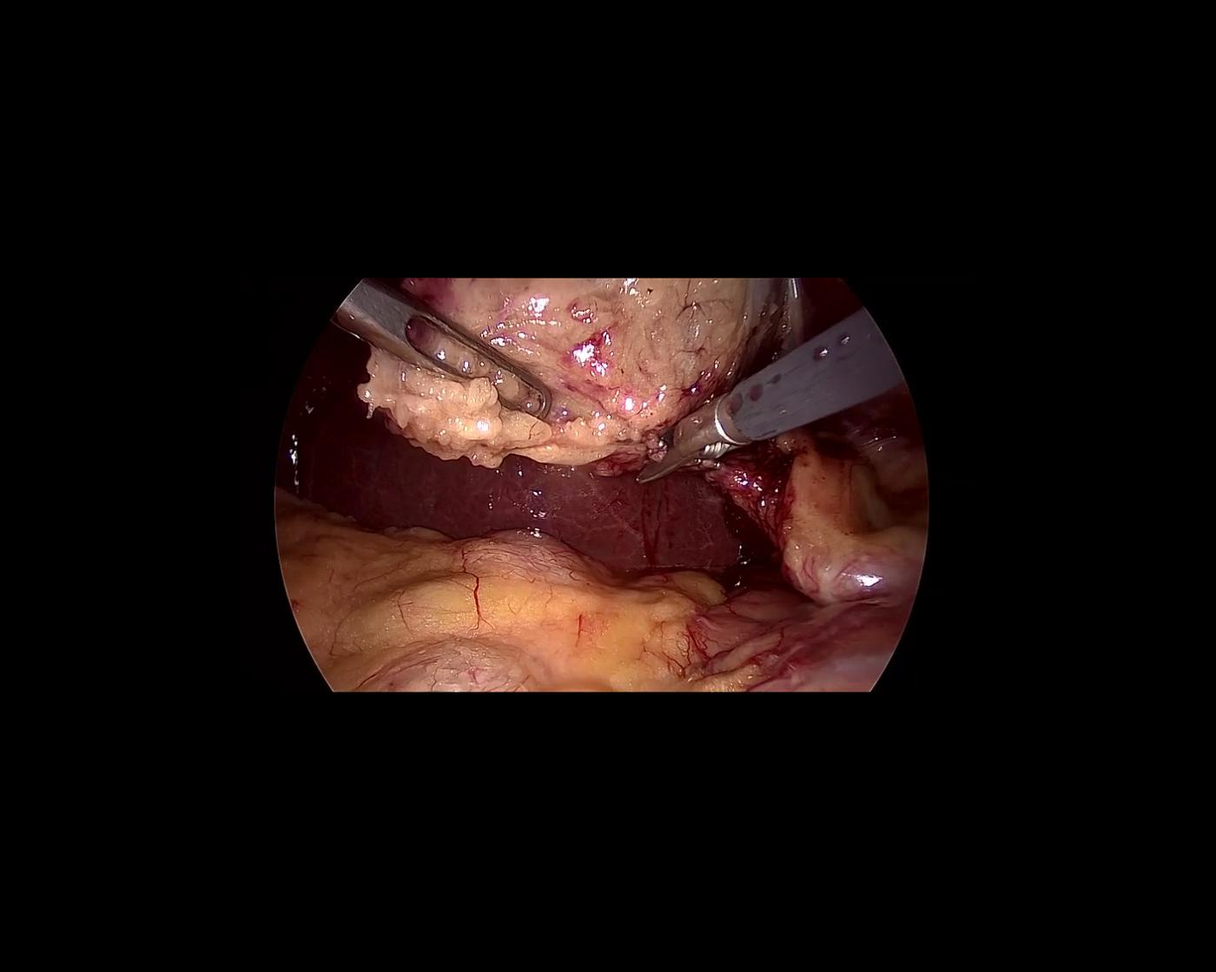Forceps: (334, 276, 568, 431)
Gallbladder: (357, 279, 771, 468)
Liver: (263, 327, 790, 668)
